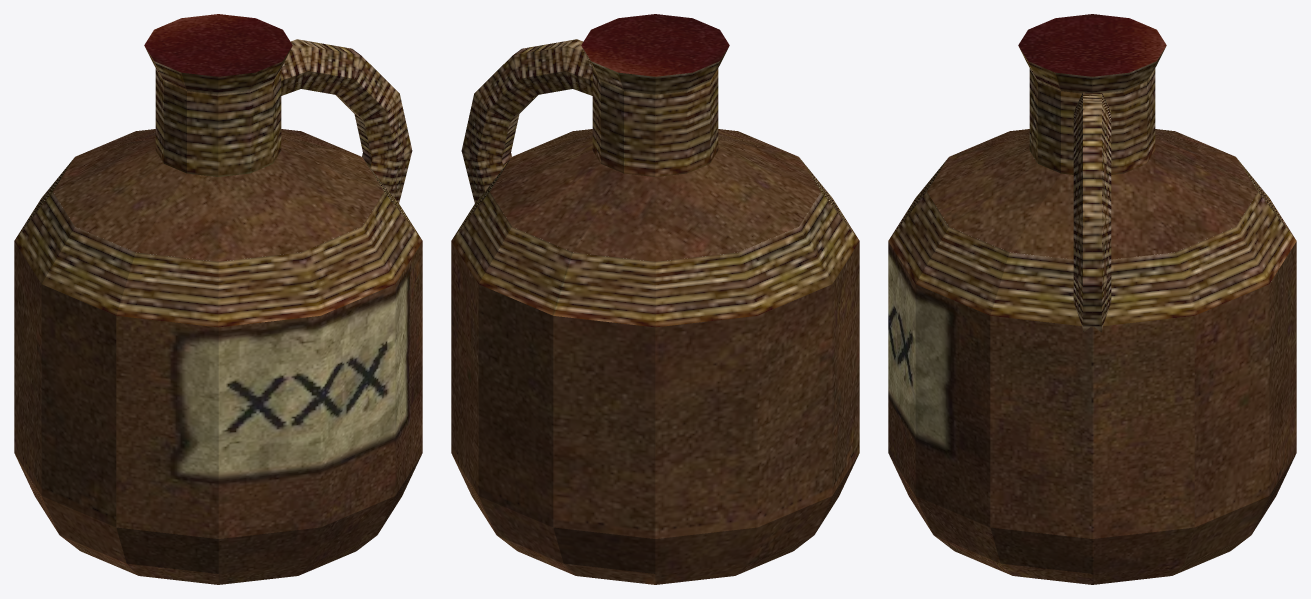
Rendered from ITMI_RUM_01.glb.
3 renders of one model, left to right at view 1: azimuth 30°, elevation 25°; view 2: azimuth 150°, elevation 25°; view 3: azimuth 270°, elevation 25°, orthographic.
Visible parts, largest first — view 1: ITMI_RUM_01; view 2: ITMI_RUM_01; view 3: ITMI_RUM_01.
Boxes of the visible parts, bbox=[...] form: ITMI_RUM_01: bbox=[14, 14, 422, 584]; ITMI_RUM_01: bbox=[451, 14, 859, 584]; ITMI_RUM_01: bbox=[888, 14, 1296, 584].
Bounding box in the file's own units: 0.3108 × 0.3831 × 0.3004.
Materials: 2 (2 with a texture image).
